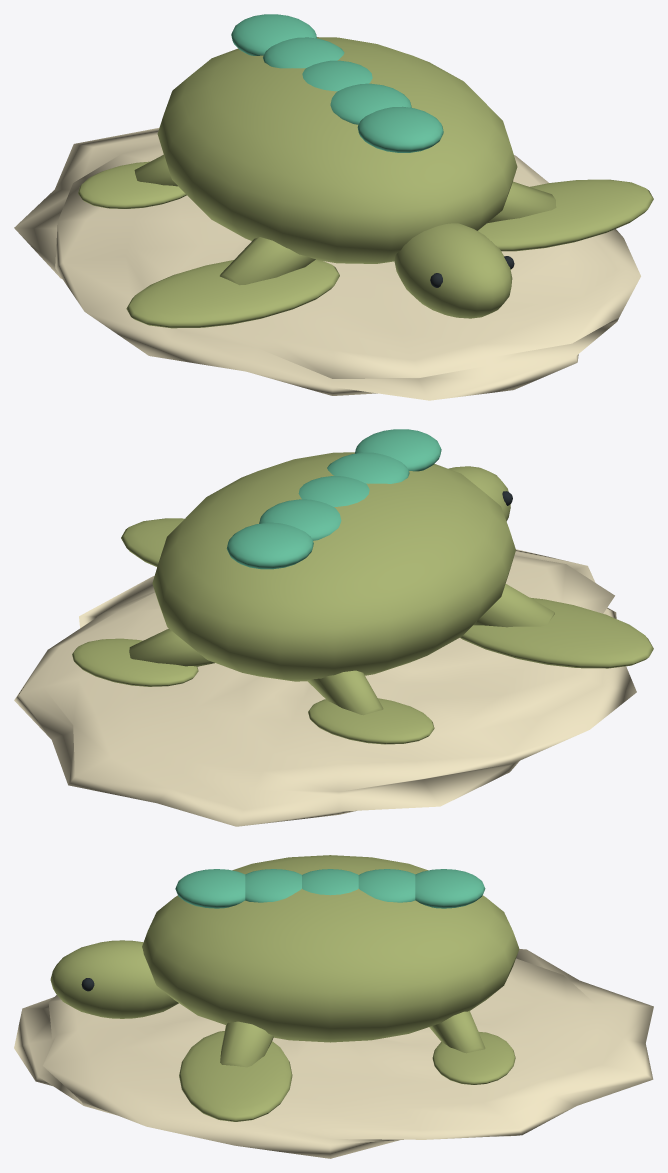
Rendered from underwater-reef-worlds-sea-turtle-ef247a4c__7071.glb.
The picture shows the model from 3 angles, top to bottom: view 1: azimuth 30°, elevation 25°; view 2: azimuth 150°, elevation 25°; view 3: azimuth 270°, elevation 25°; orthographic projection. The views are drawn at different scales.
Visible parts, largest first — view 1: sea-turtle; view 2: sea-turtle; view 3: sea-turtle.
Boxes of the visible parts, x1=… form: sea-turtle: x1=14, y1=14, x2=653, y2=400; sea-turtle: x1=14, y1=429, x2=653, y2=826; sea-turtle: x1=14, y1=855, x2=653, y2=1158.
Size of the model in its own units: 1.42 by 0.5 by 1.69.
